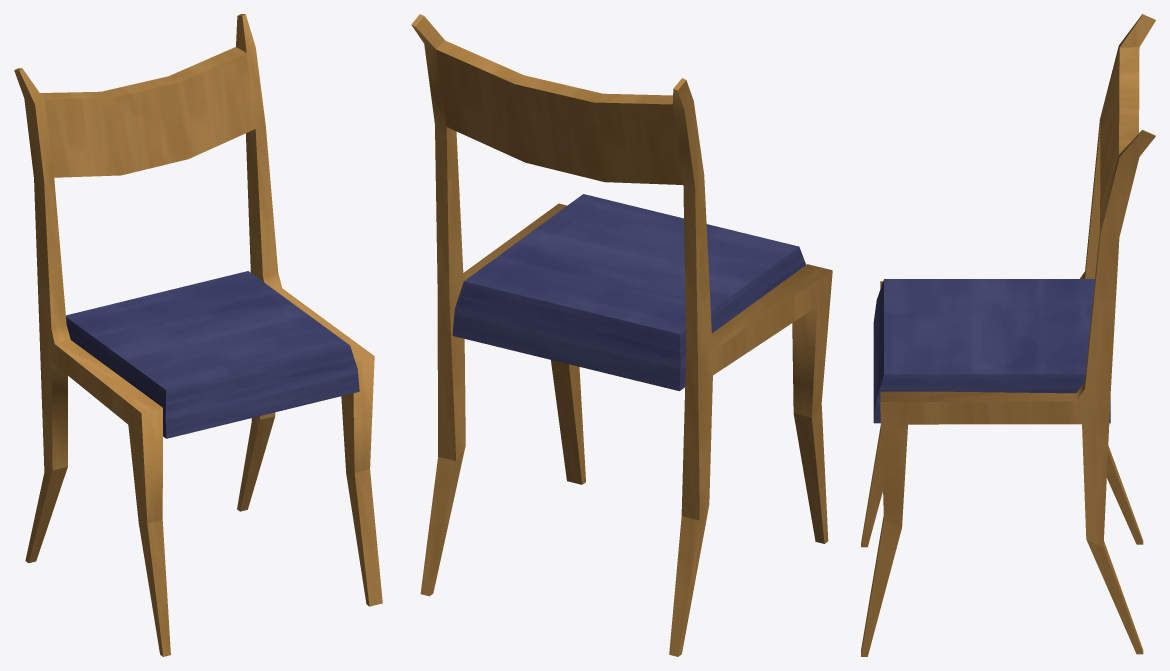
The model's file is stuhl.FBX.
3 renders of one model, left to right at view 1: azimuth 30°, elevation 25°; view 2: azimuth 150°, elevation 25°; view 3: azimuth 270°, elevation 25°, orthographic. The views are drawn at different scales.
Visible parts, largest first — view 1: Stuhl; view 2: Stuhl; view 3: Stuhl.
Part boxes in pixels (box(x1,y1,x2,y2)): Stuhl: box(14, 14, 382, 656); Stuhl: box(411, 14, 832, 656); Stuhl: box(861, 14, 1155, 656).
Size of the model in its own units: 60.33 by 122 by 62.18.
